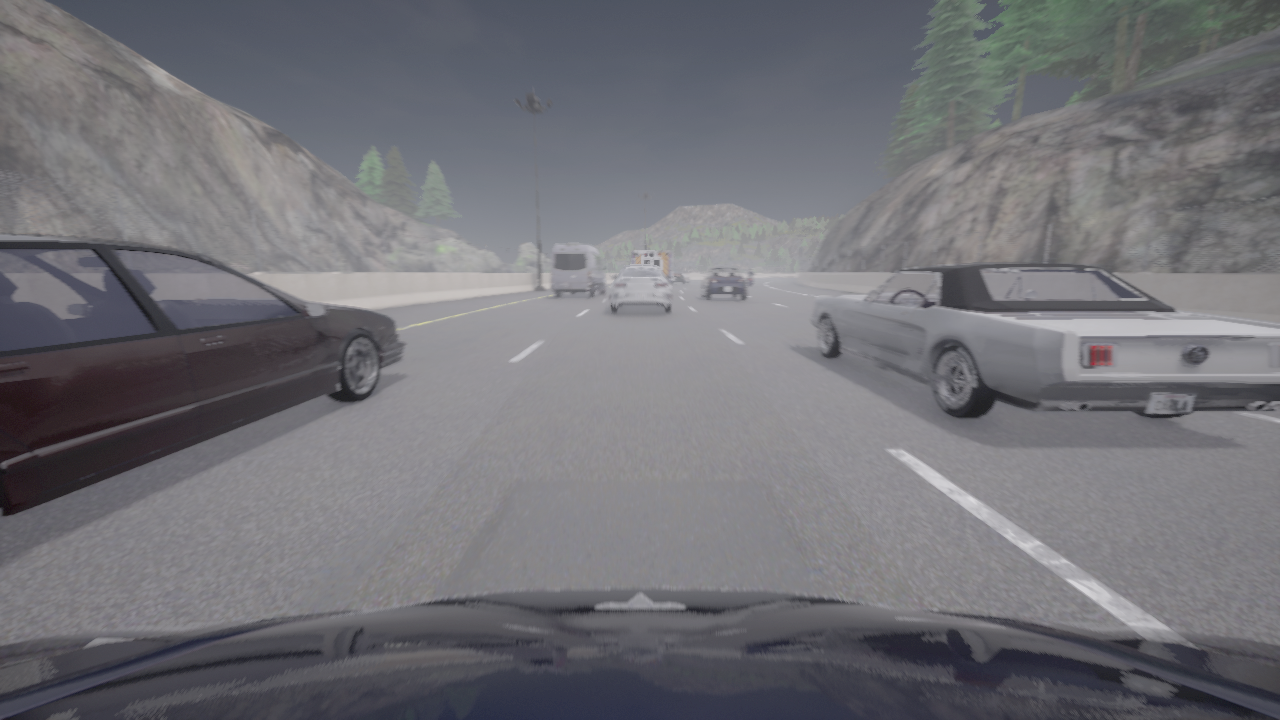cyclist: (0, 588, 1279, 719), (810, 263, 1279, 419), (550, 244, 606, 297), (610, 265, 671, 313), (700, 267, 746, 300), (632, 251, 675, 286), (673, 269, 689, 284), (747, 277, 751, 286)
